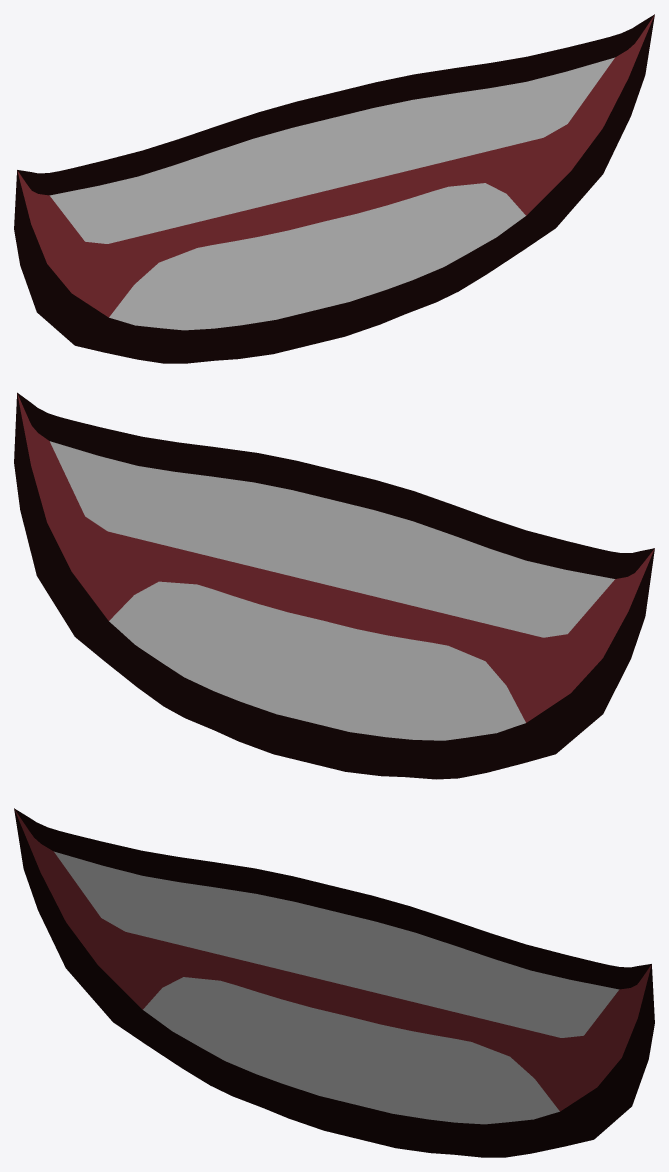
Rendered from flip_c_d_n_s_t_x_y_z.glb.
3 renders of one model, top to bottom at view 1: azimuth 30°, elevation 25°; view 2: azimuth 150°, elevation 25°; view 3: azimuth 330°, elevation 25°, orthographic.
Visible parts, largest first — view 1: flip_c_d_n_s_t_x_y_z; view 2: flip_c_d_n_s_t_x_y_z; view 3: flip_c_d_n_s_t_x_y_z.
Boxes of the visible parts, x1,y1,x2,y2 form: flip_c_d_n_s_t_x_y_z: (14,14,654,363); flip_c_d_n_s_t_x_y_z: (14,392,654,779); flip_c_d_n_s_t_x_y_z: (14,808,654,1157).
Bounding box in the file's own units: 0.0797 × 0.0326 × 0.00581.
